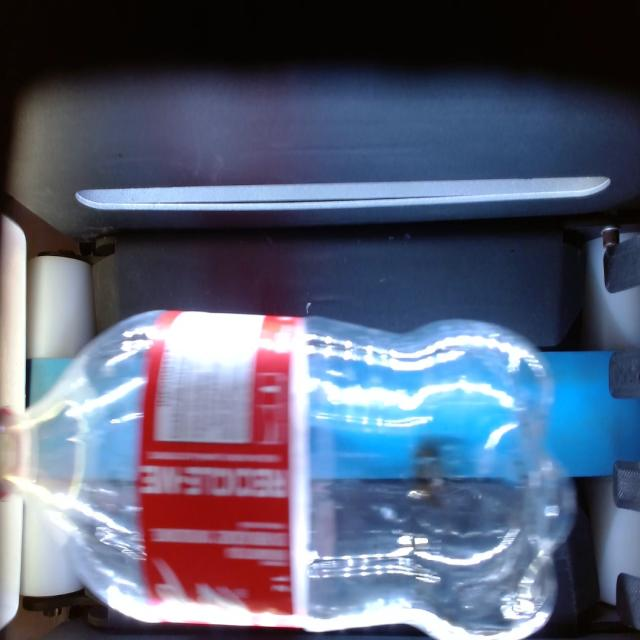bottom: (484, 301, 578, 640)
